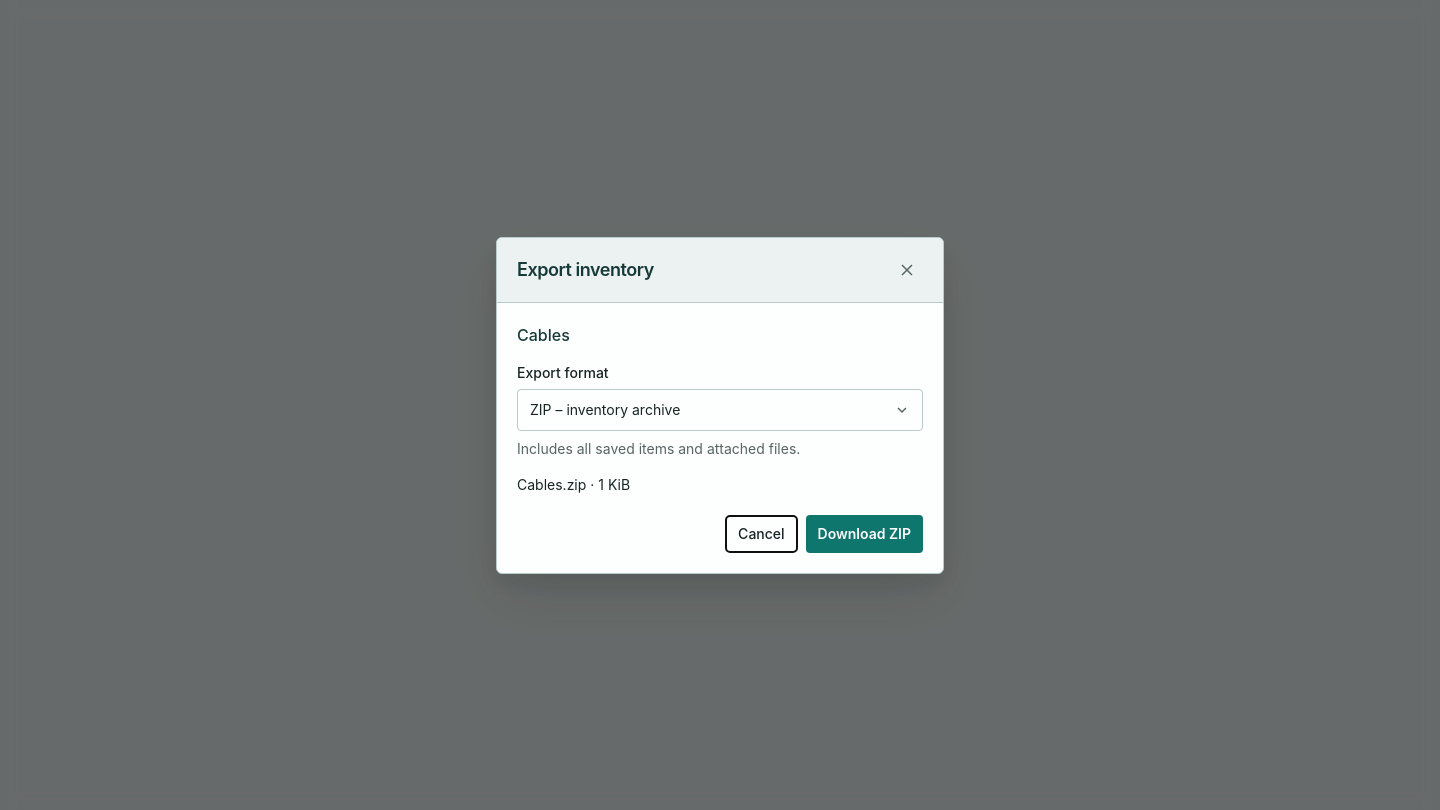
it: retries the selected table format and clears its error and attachment notice when returning to ZIP
The image size is (1440, 810).
Expected: the button "Download ZIP" is shown, [806, 514, 923, 552]
Click the dropdown named "Export format".
click(605, 409)  # box [517, 388, 923, 430]
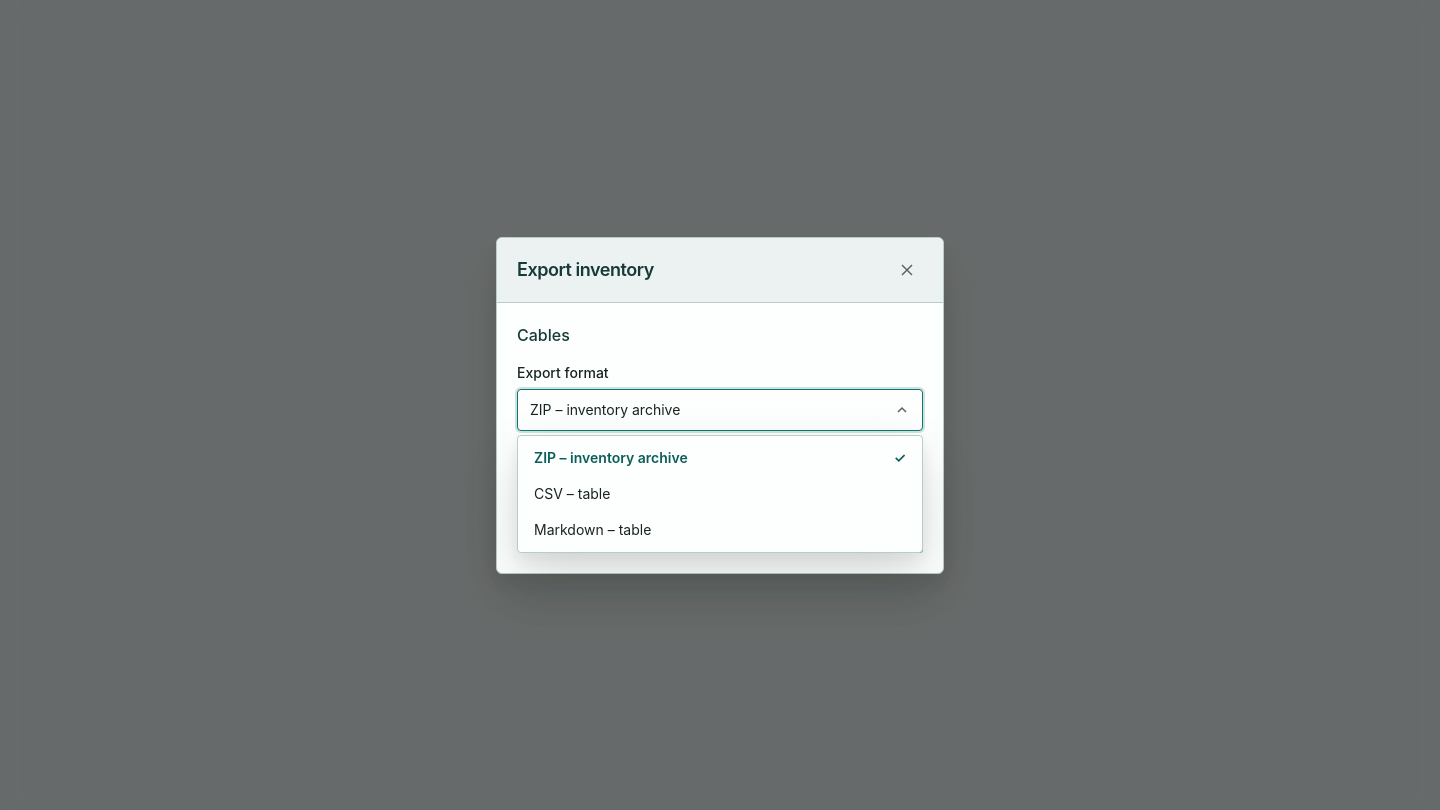
Click the option "CSV – table".
click(572, 493)  # box [522, 476, 918, 512]
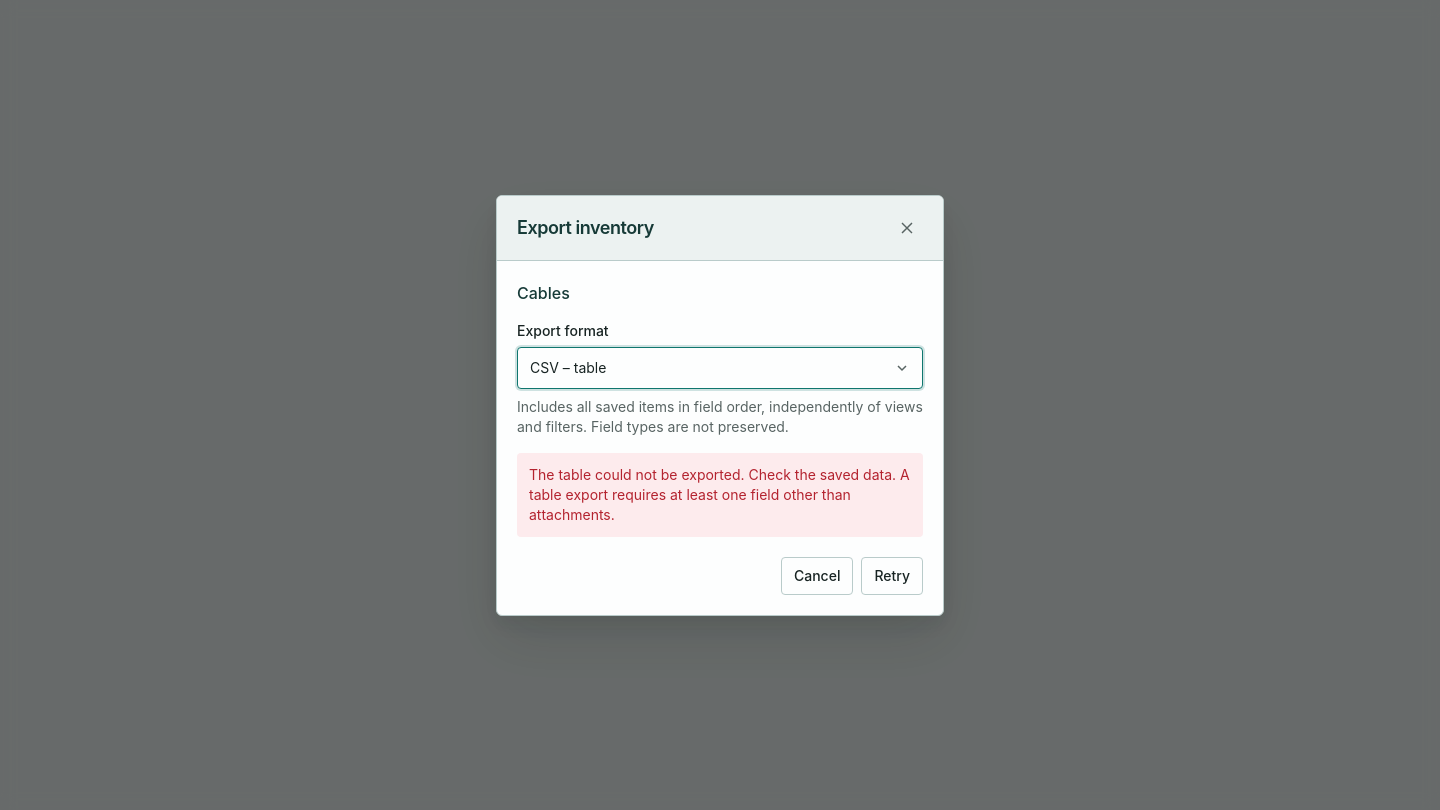
Expected: the message shows "at least one field other than attachments", [529, 466, 910, 522]
Click the button "Retry".
click(892, 576)  # box [861, 556, 923, 594]
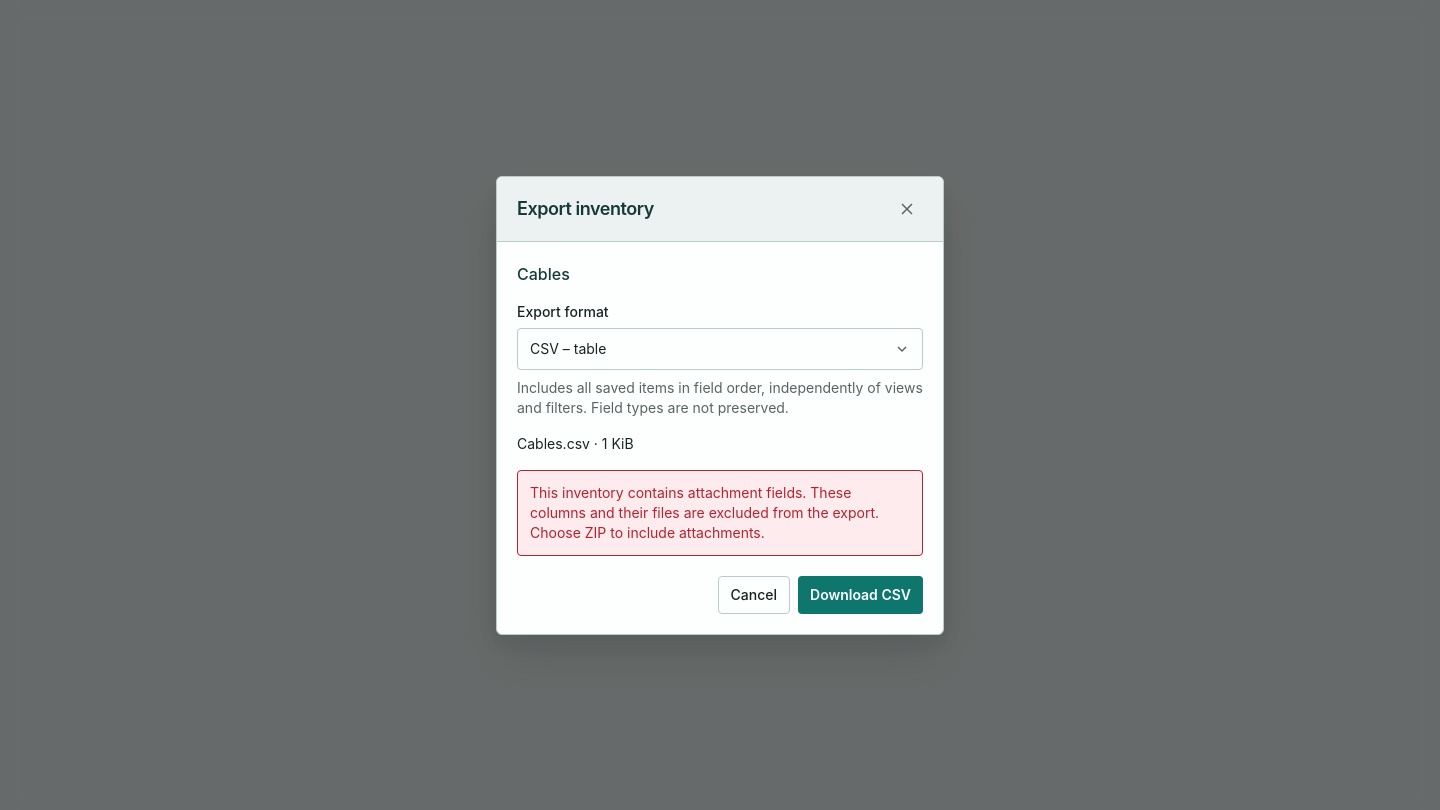
Expected: the button "Download CSV" is shown, [798, 576, 923, 614]
Expected: the message shows "attachment fields", [530, 484, 879, 540]
Click the dropdown named "Export format".
click(568, 348)  # box [517, 328, 923, 370]
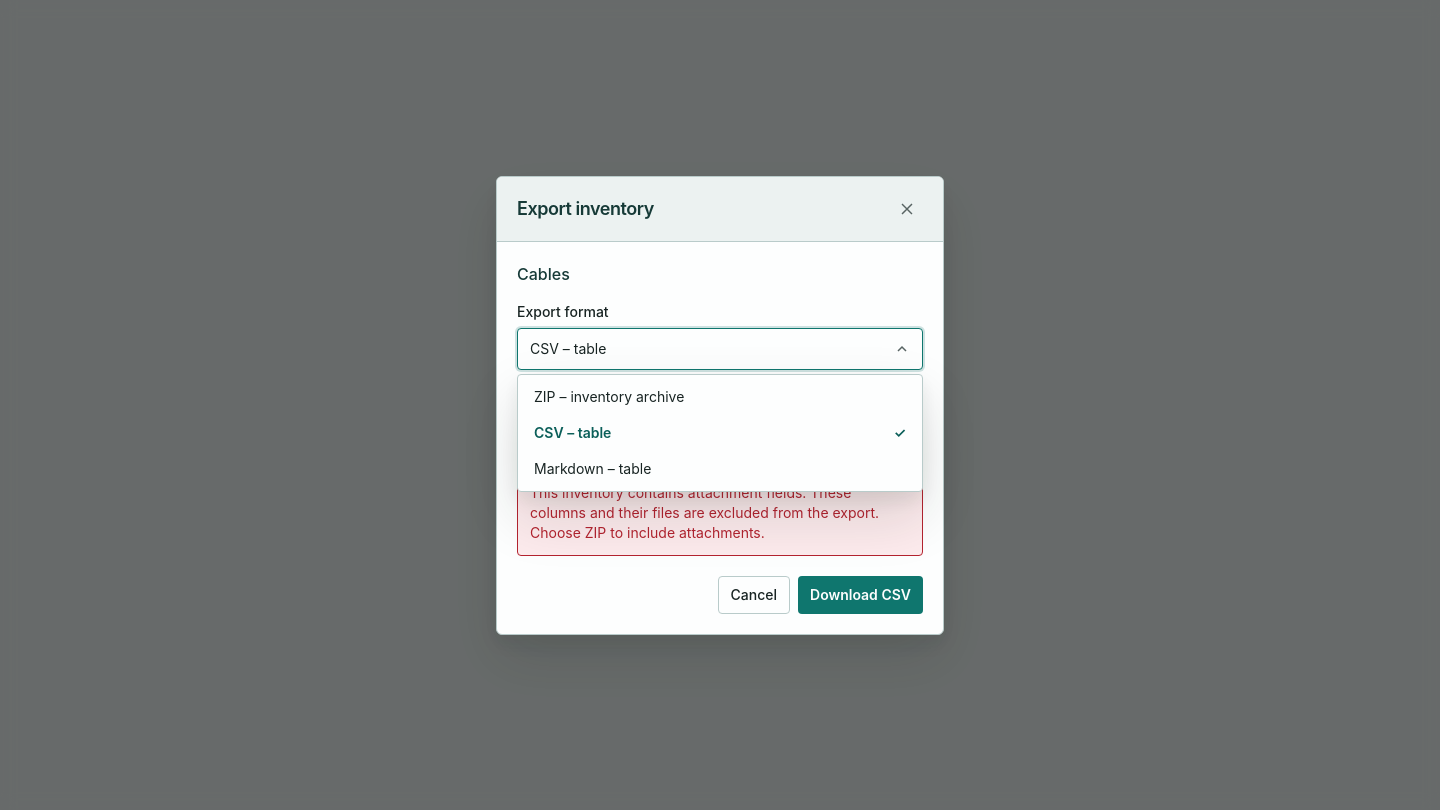
Click the option "ZIP – inventory archive".
click(609, 396)  # box [522, 378, 918, 414]
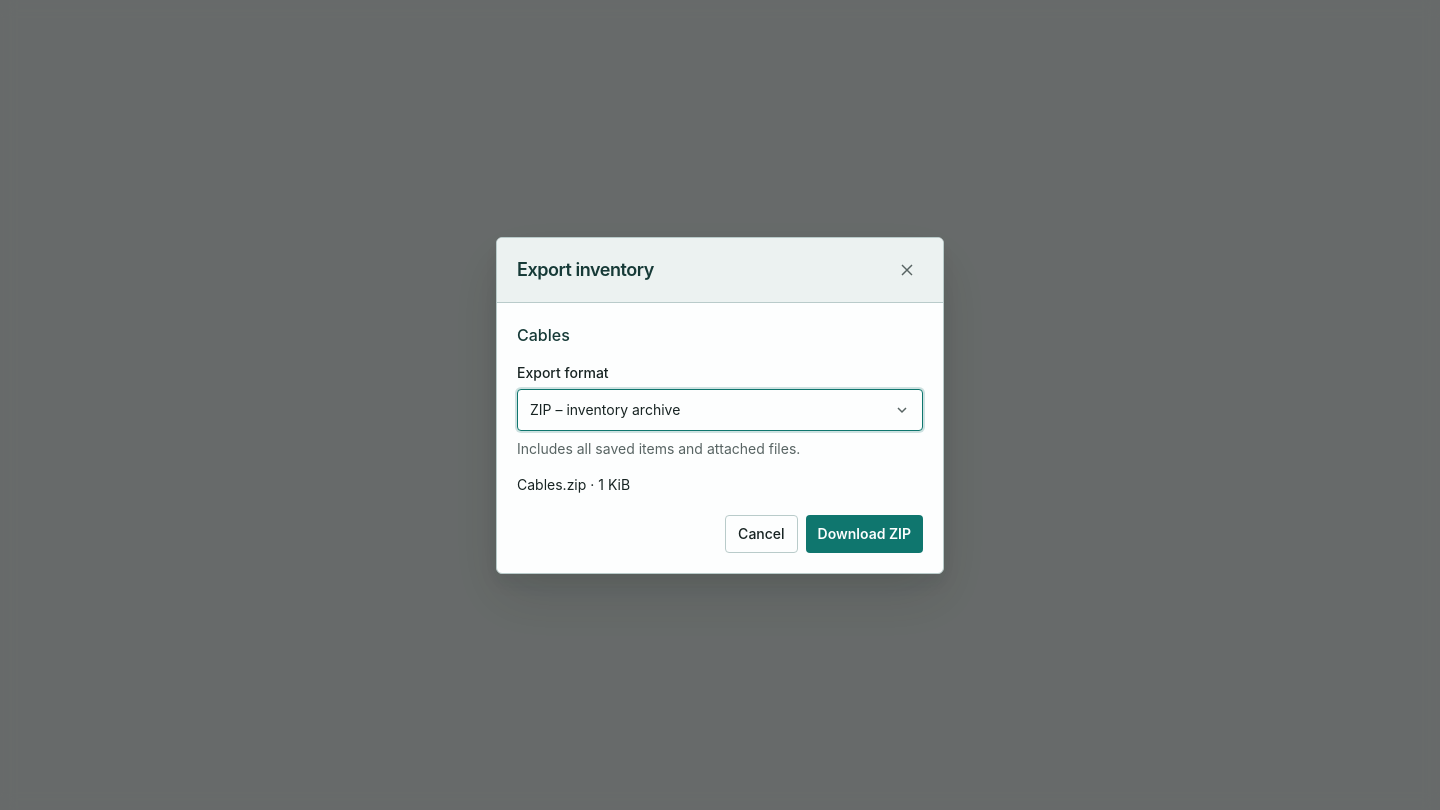
Expected: the button "Download ZIP" is shown, [806, 514, 923, 552]
Expected: the message is gone
